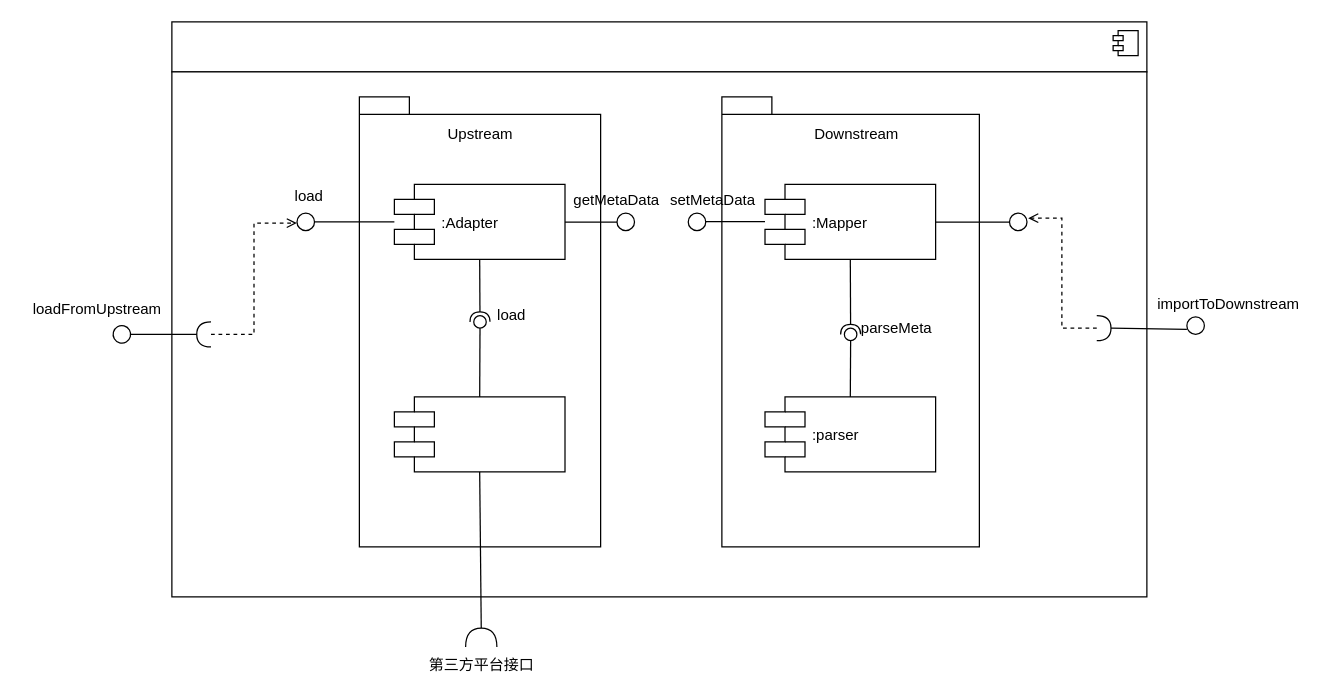
This 1330x700 diagram has some shape labels left out. The shapes that lost their labels are listed below. From the top down, each one's centre as x and y in pixels, then its label:
At pixel 659 46: "«Component» Connector".
At pixel 479 434: ":adaptee".
